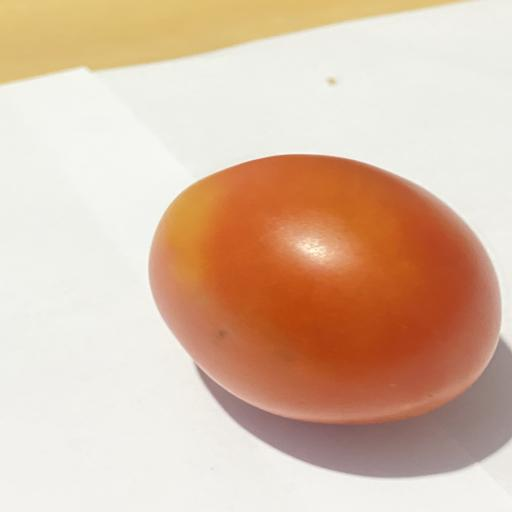ripe: (149, 155, 502, 424)
